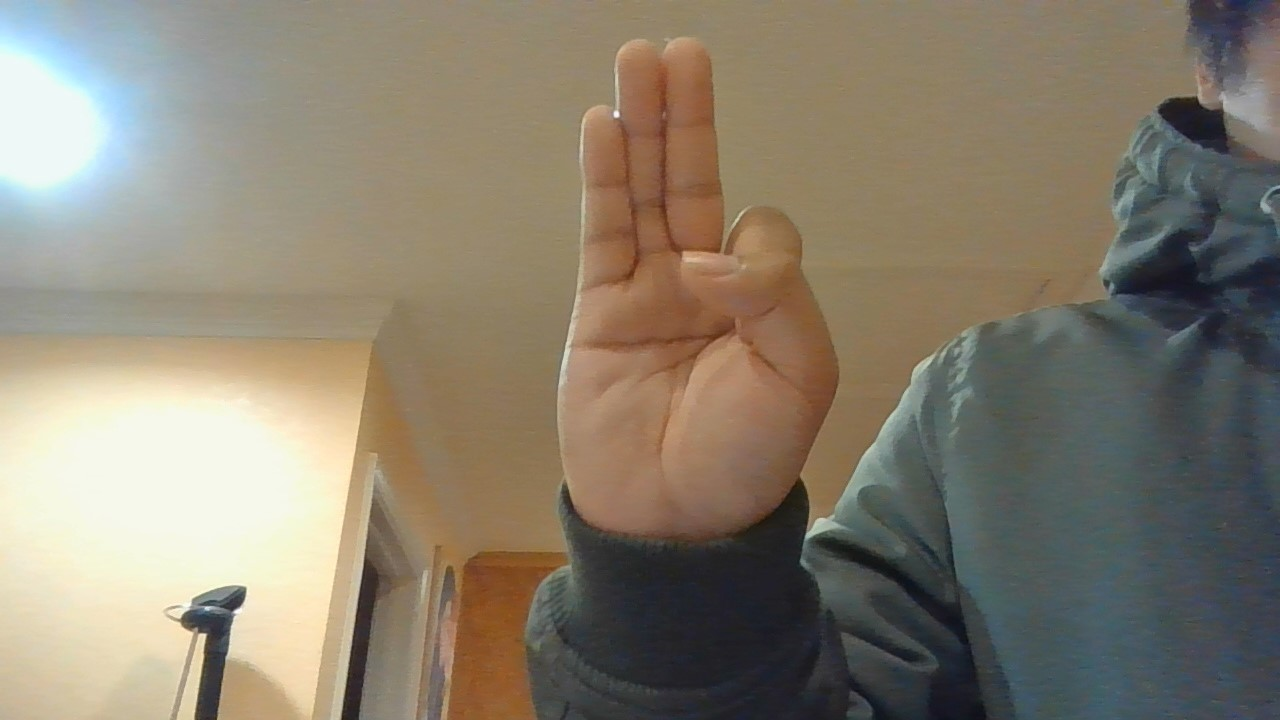f: (492, 32, 859, 573)
